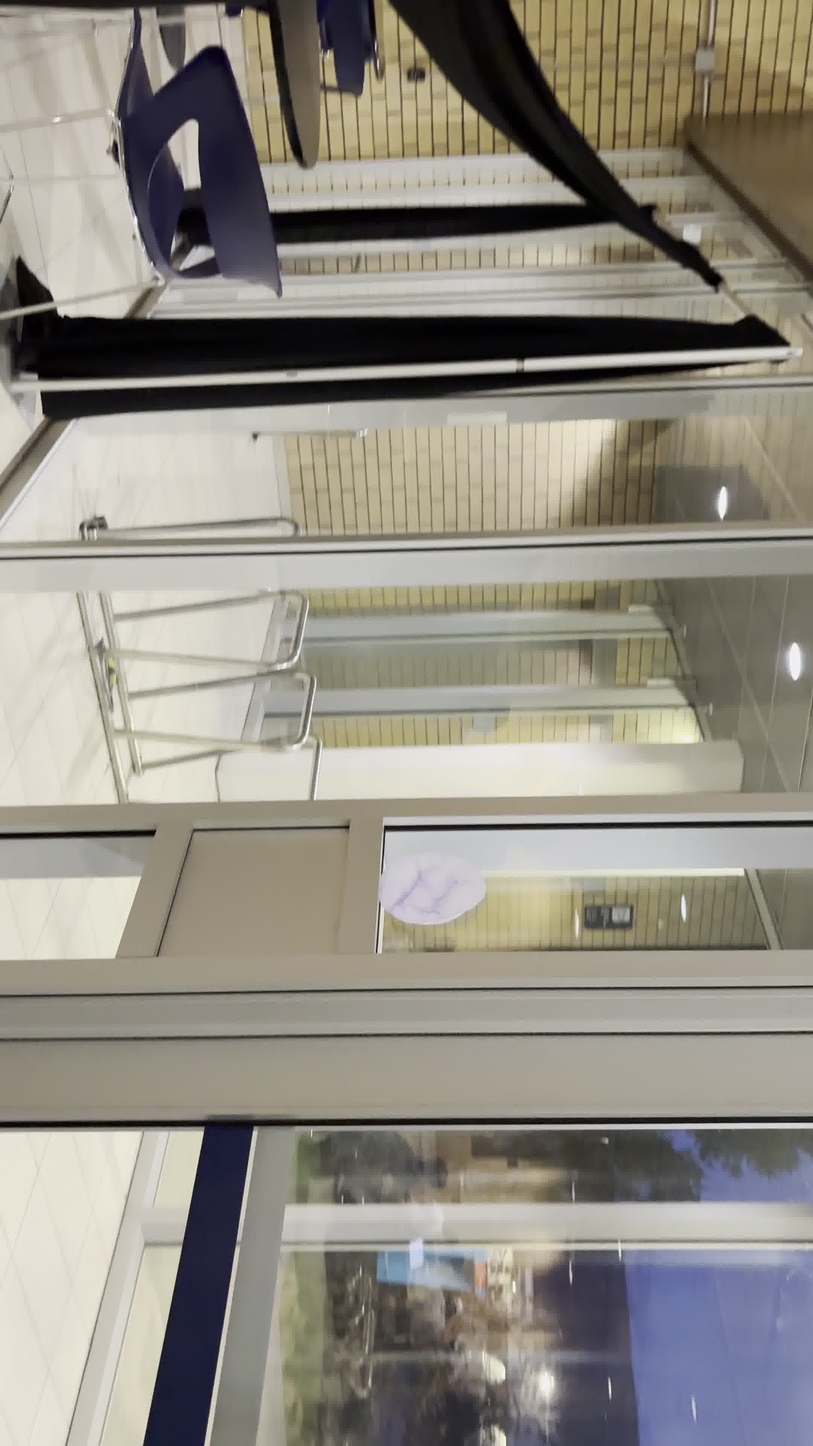Target: (375, 850, 489, 927)
